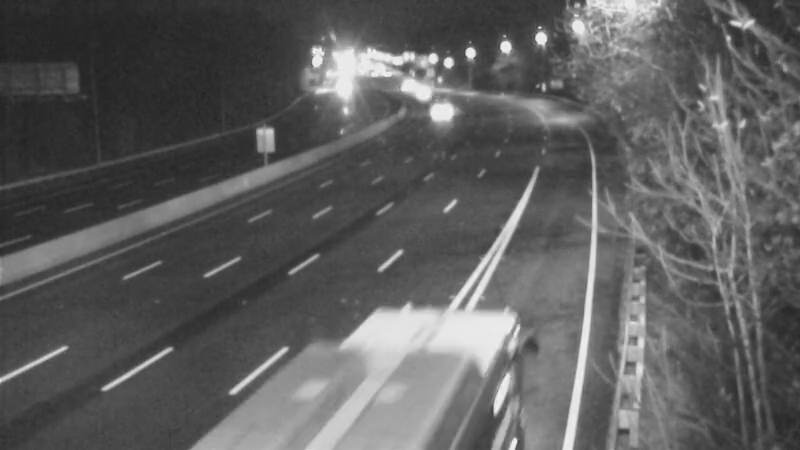vehicle: (318, 341, 428, 450), (395, 69, 445, 119), (413, 82, 463, 132)
